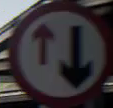Two way: (10, 12, 98, 92)
